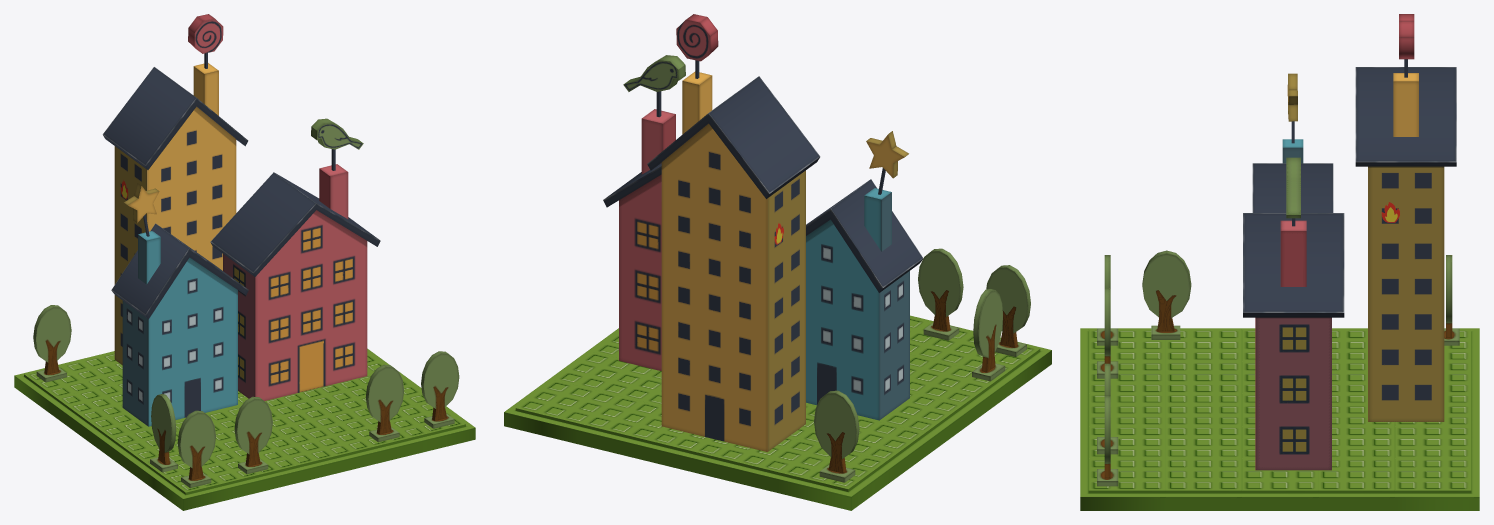
The model's file is obj_houseset.FBX.
3 renders of one model, left to right at view 1: azimuth 30°, elevation 25°; view 2: azimuth 150°, elevation 25°; view 3: azimuth 270°, elevation 25°, orthographic. The views are drawn at different scales.
Visible parts, largest first — view 1: obj_house_r, obj_block_B_G, obj_house_r002, obj_house_r001, obj_tree_01, obj_tree_003, obj_tree_002, obj_tree_005, obj_tree_006, obj_tree_004; view 2: obj_house_r002, obj_block_B_G, obj_house_r001, obj_house_r, obj_tree_005, obj_tree_003, obj_tree_002, obj_tree_004; view 3: obj_block_B_G, obj_house_r002, obj_house_r, obj_house_r001, obj_tree_004, obj_tree_01, obj_tree_005, obj_tree_003, obj_tree_002, obj_tree_006.
Boxes of the visible parts, left/top/right/bottom form: obj_house_r: left=210, top=118, right=380, bottom=400; obj_block_B_G: left=14, top=348, right=475, bottom=510; obj_house_r002: left=102, top=14, right=248, bottom=365; obj_house_r001: left=111, top=183, right=248, bottom=426; obj_tree_01: left=421, top=351, right=459, bottom=428; obj_tree_003: left=33, top=305, right=71, bottom=382; obj_tree_002: left=177, top=410, right=215, bottom=488; obj_tree_005: left=234, top=396, right=272, bottom=474; obj_tree_006: left=365, top=364, right=404, bottom=442; obj_tree_004: left=150, top=394, right=177, bottom=472; obj_house_r002: left=647, top=14, right=820, bottom=451; obj_block_B_G: left=504, top=315, right=1051, bottom=510; obj_house_r001: left=806, top=131, right=923, bottom=420; obj_house_r: left=603, top=55, right=685, bottom=370; obj_tree_005: left=918, top=248, right=963, bottom=340; obj_tree_003: left=814, top=390, right=859, bottom=482; obj_tree_002: left=986, top=265, right=1030, bottom=356; obj_tree_004: left=972, top=289, right=1005, bottom=381; obj_block_B_G: left=1080, top=328, right=1479, bottom=510; obj_house_r002: left=1355, top=14, right=1456, bottom=421; obj_house_r: left=1243, top=157, right=1344, bottom=470; obj_house_r001: left=1252, top=73, right=1333, bottom=212; obj_tree_004: left=1142, top=250, right=1191, bottom=339; obj_tree_01: left=1097, top=395, right=1118, bottom=486; obj_tree_005: left=1097, top=288, right=1118, bottom=378; obj_tree_003: left=1444, top=255, right=1459, bottom=345; obj_tree_002: left=1097, top=255, right=1118, bottom=345; obj_tree_006: left=1097, top=363, right=1118, bottom=454.
Bounding box in the file's own units: 20.86 × 24.07 × 20.86.
